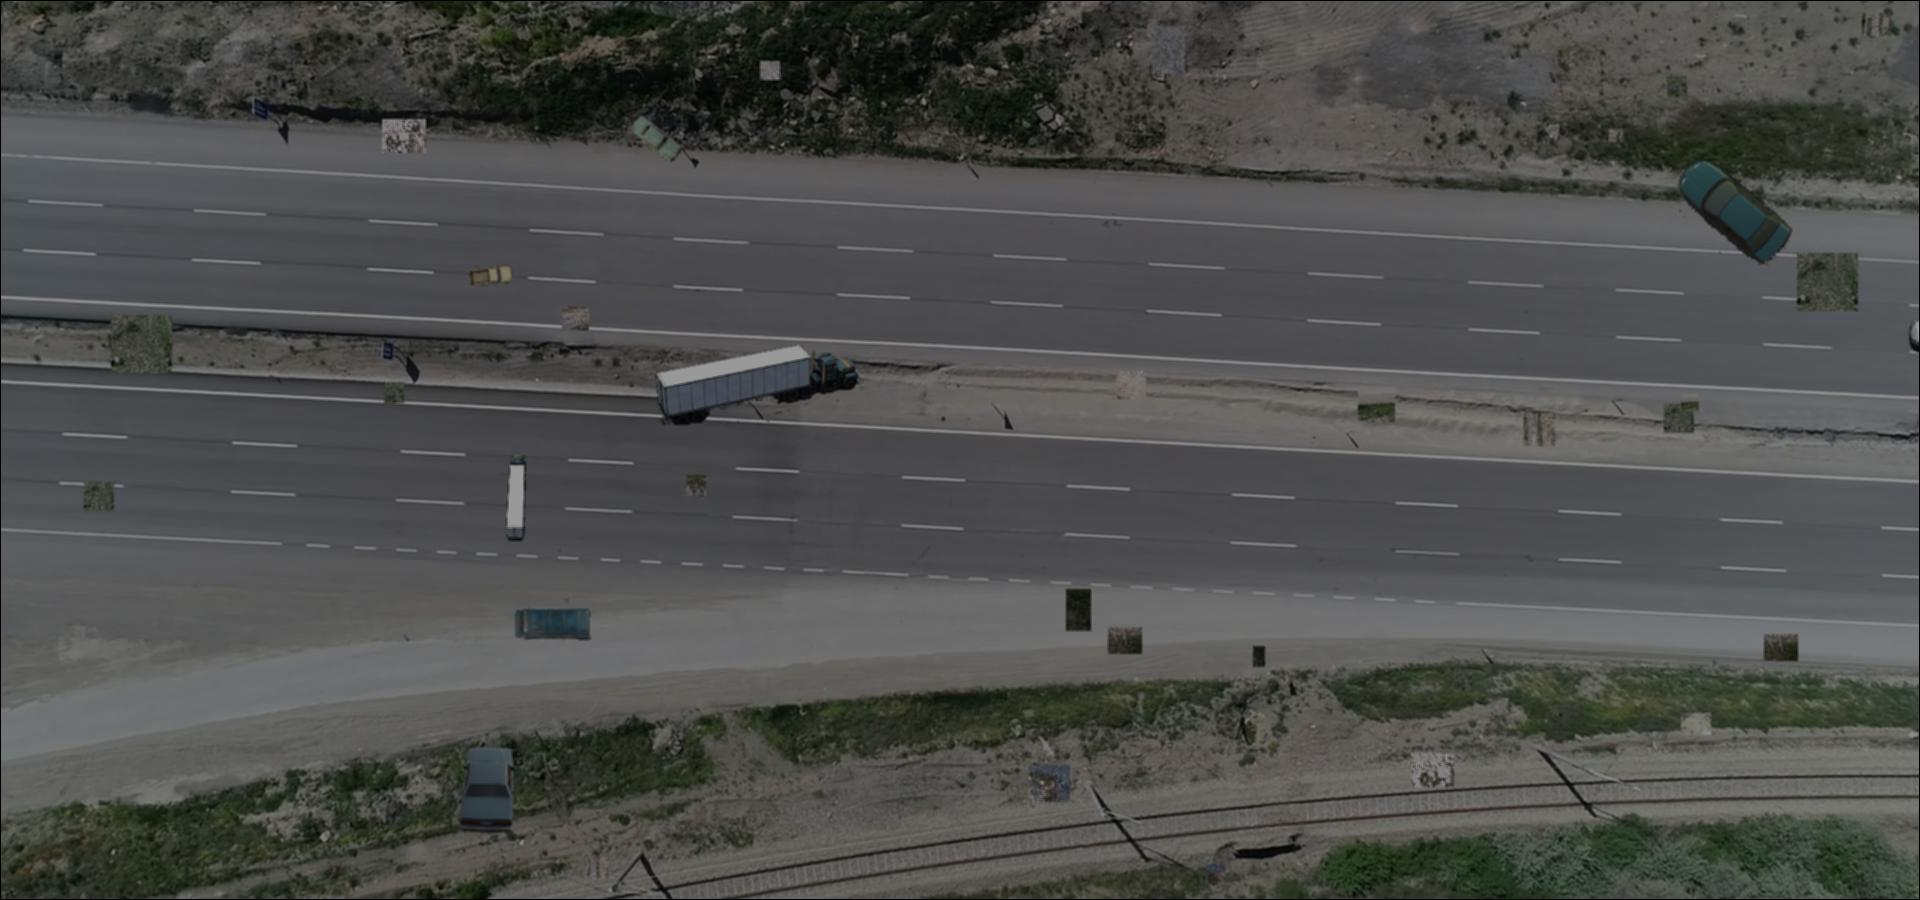arac: (651, 342, 862, 425), (1674, 156, 1791, 264), (456, 748, 519, 835), (512, 605, 593, 642), (628, 111, 683, 162), (503, 452, 527, 541), (468, 264, 513, 287)
